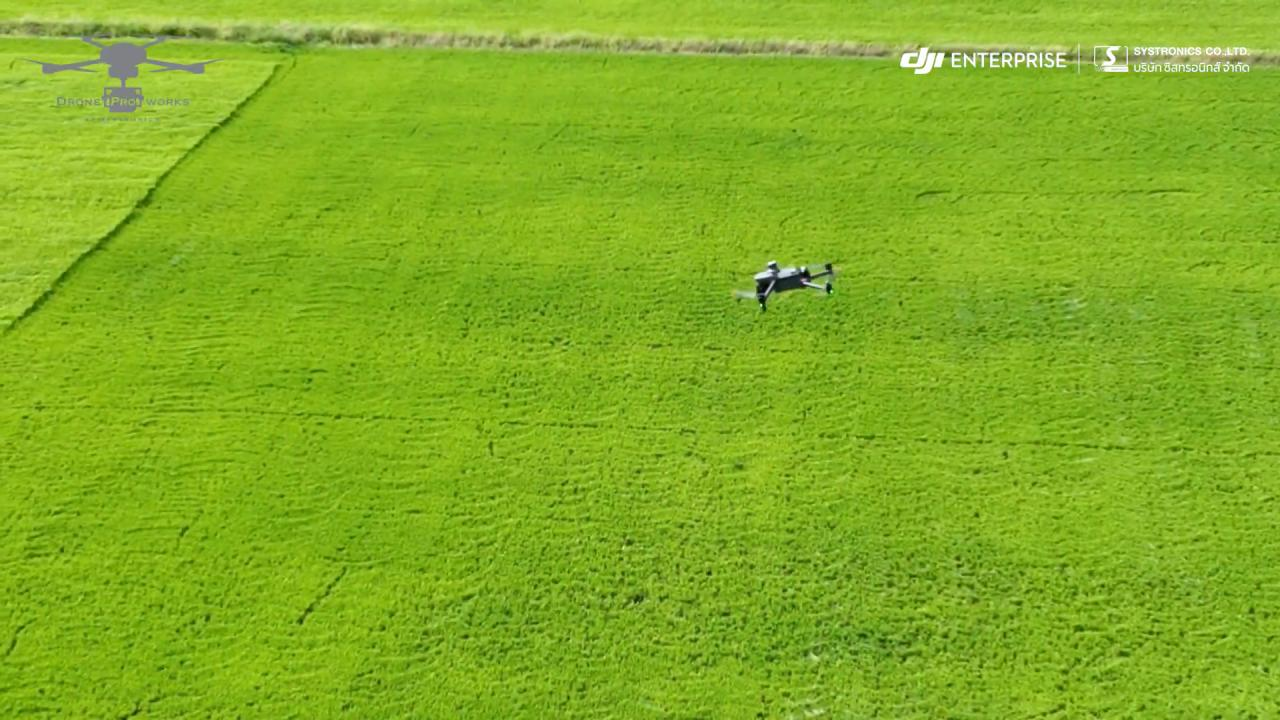Drone: (723, 247, 857, 322)
